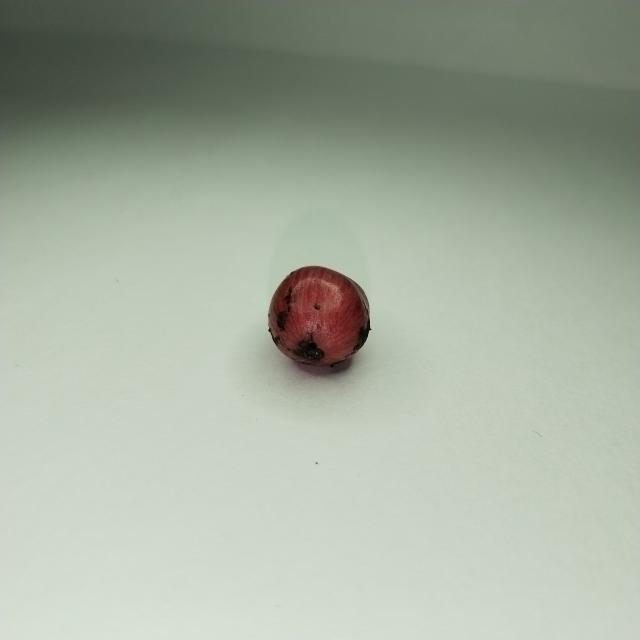Infectado: (268, 266, 371, 368)
